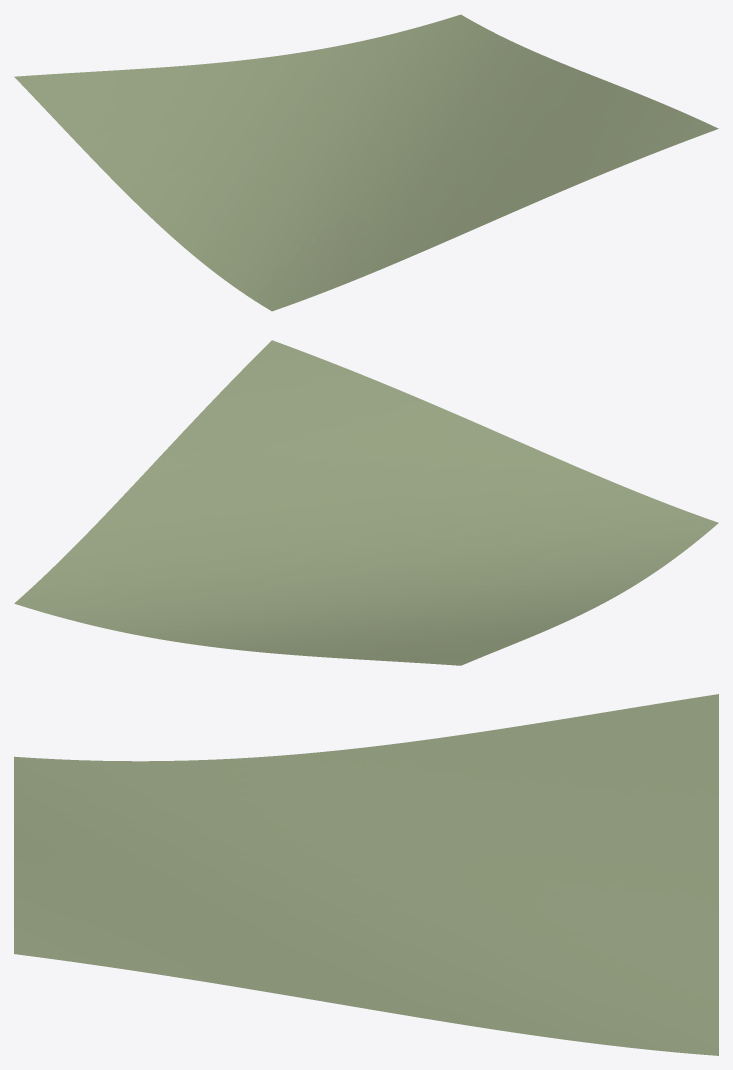
File: expanse-13-19.glb
3 views of the same model, one above another, from view 1: azimuth 30°, elevation 25°; view 2: azimuth 150°, elevation 25°; view 3: azimuth 270°, elevation 25° (orthographic). The views are drawn at different scales.
Parts seen in each view (by area): view 1: expanse-13-19; view 2: expanse-13-19; view 3: expanse-13-19.
Part boxes in pixels (x1,y1,x2,y2): expanse-13-19: [14, 14, 718, 311]; expanse-13-19: [14, 340, 718, 665]; expanse-13-19: [14, 694, 718, 1055].
Bounding box in the file's own units: 256 × 42.34 × 256.
